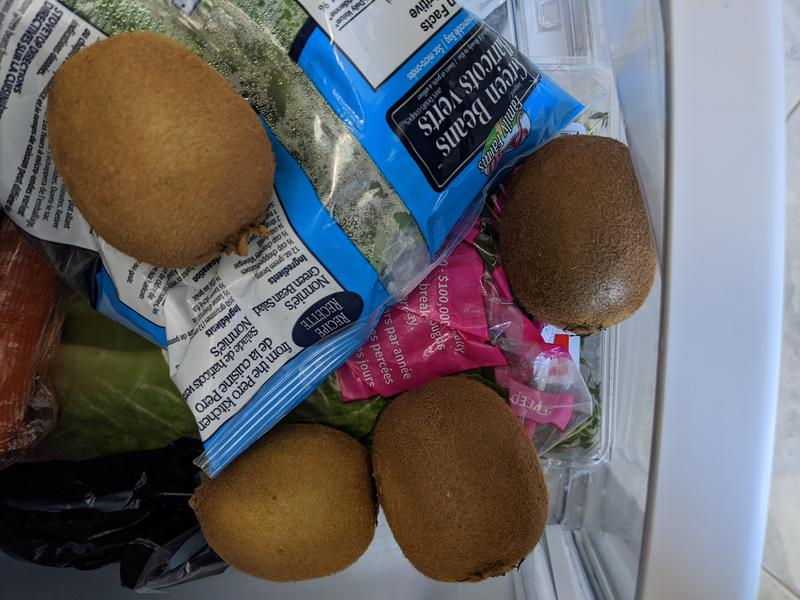kiwi: (45, 30, 277, 269), (372, 375, 549, 583), (502, 134, 659, 333), (189, 421, 380, 583)
